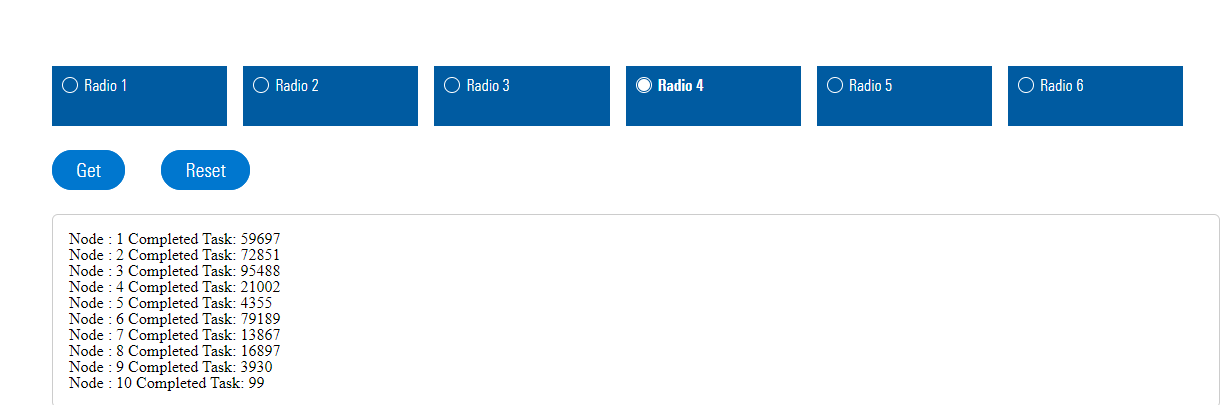div_rect: (48, 212, 1222, 405), (240, 62, 421, 129), (50, 63, 230, 129), (624, 63, 803, 129), (432, 63, 612, 128), (1006, 64, 1186, 129), (816, 63, 994, 128)
div_round: (161, 147, 249, 190), (51, 147, 126, 190)
radio: (1017, 75, 1035, 94), (251, 77, 271, 94), (442, 76, 461, 93), (826, 74, 843, 93), (635, 76, 653, 93), (60, 77, 79, 93)
text: (66, 229, 283, 247), (67, 341, 281, 358), (67, 278, 282, 294), (67, 247, 281, 263), (66, 310, 280, 326), (68, 375, 266, 392), (66, 263, 283, 278), (67, 326, 281, 341), (67, 359, 271, 374), (66, 295, 272, 309), (185, 161, 227, 180), (276, 77, 320, 93), (1041, 77, 1085, 93), (83, 78, 128, 93), (466, 78, 511, 92), (848, 78, 892, 92), (75, 160, 102, 177)
text_bold: (657, 78, 704, 92)
